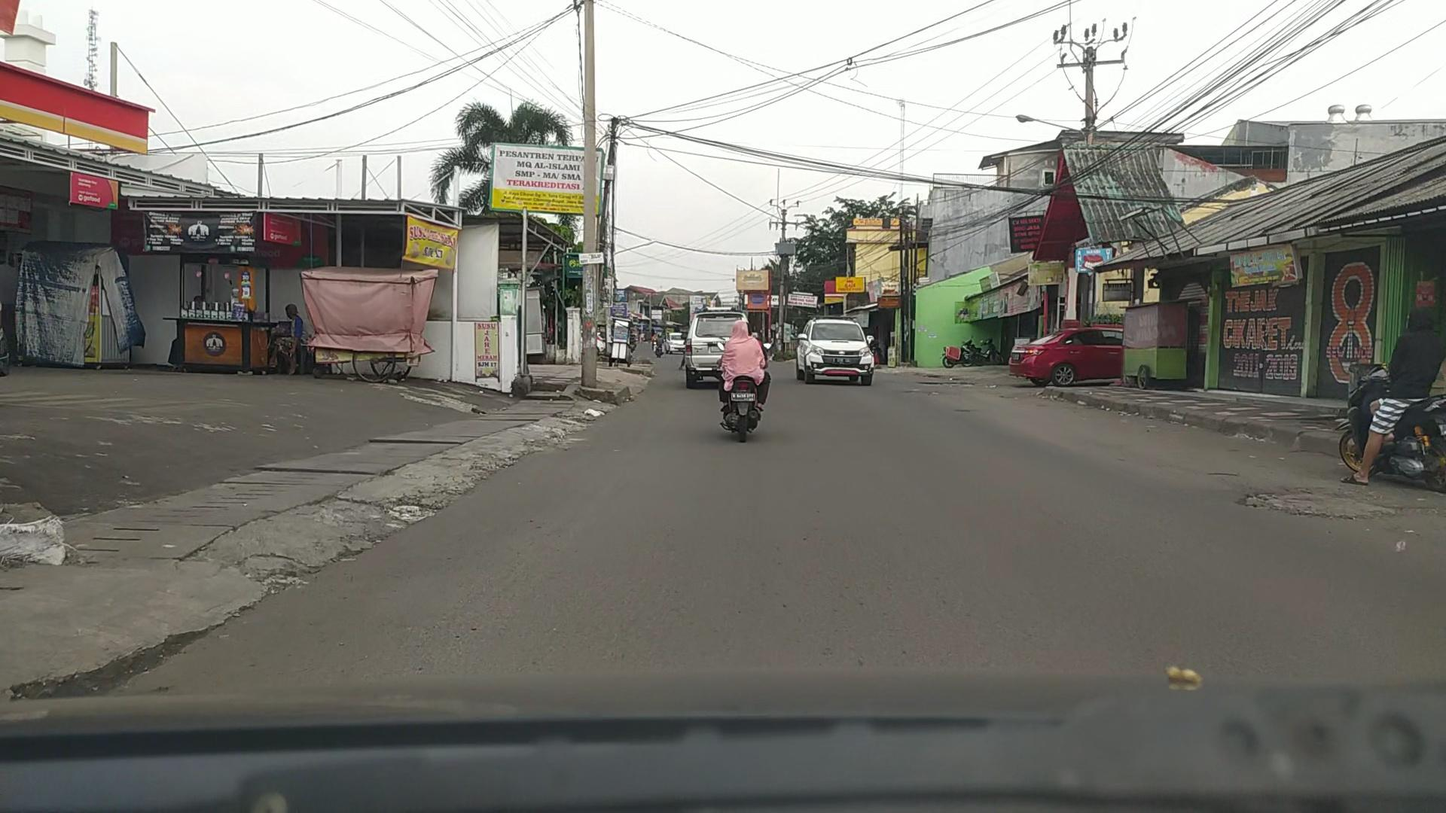pothole: (1244, 486, 1400, 520)
